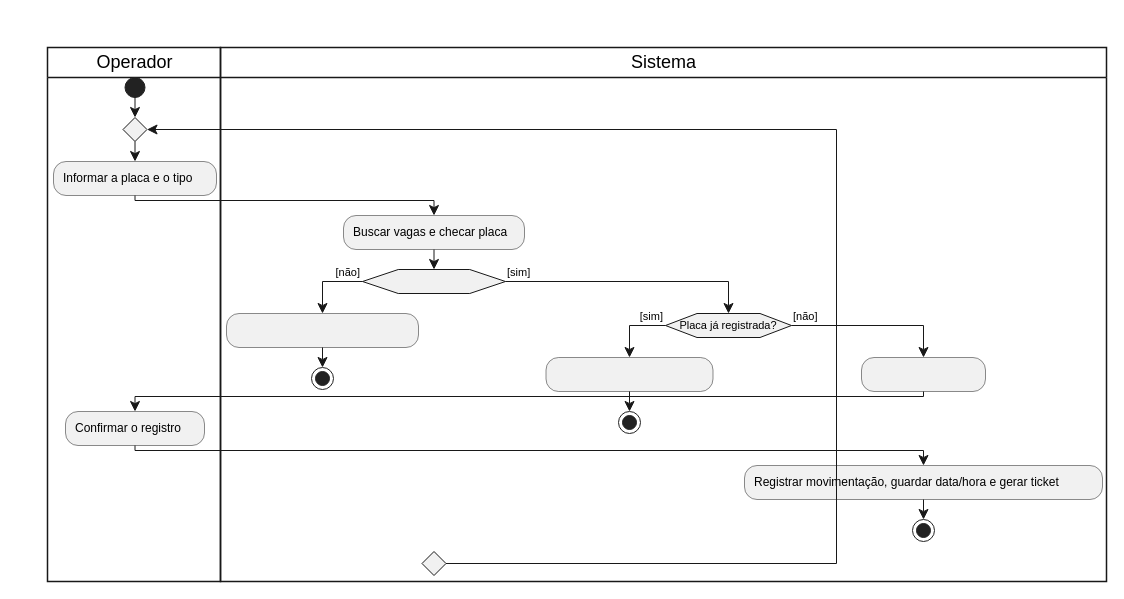
Image size: 1124x599. Some labels were removed from this diagram. Each missing label, with the centre of its shape:
"Atribuir vaga livre" goes at (923,374).
"Avisar estacionamento lotado" goes at (322,330).
"Avisar placa já registrada" goes at (629,374).
"Há vagas disponíveis?" goes at (434,281).
